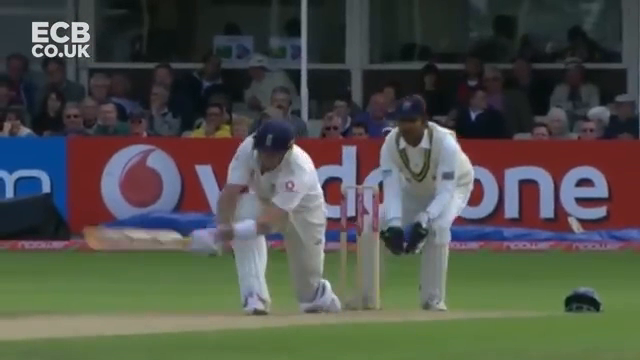Keeper: (361, 94, 473, 312)
batsman: (214, 125, 343, 311)
